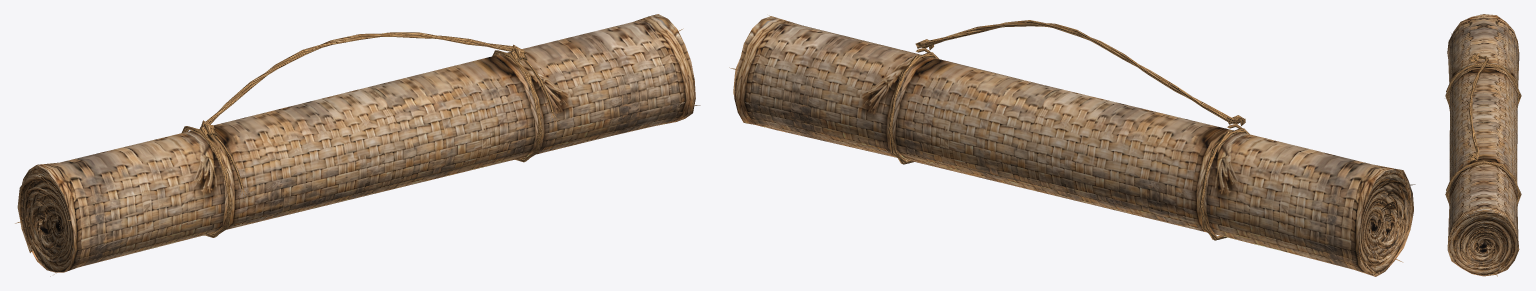
Rendered from Model_StrawSleepingMatRolled.glb.
3 views of the same model, side by side, from view 1: azimuth 30°, elevation 25°; view 2: azimuth 150°, elevation 25°; view 3: azimuth 270°, elevation 25° (orthographic). The views are drawn at different scales.
Parts seen in each view (by area): view 1: Model_StrawSleepingMatRolled; view 2: Model_StrawSleepingMatRolled; view 3: Model_StrawSleepingMatRolled.
Boxes of the visible parts, box(x1,y1,x2,y2) form: Model_StrawSleepingMatRolled: box(15, 14, 700, 276); Model_StrawSleepingMatRolled: box(729, 15, 1415, 276); Model_StrawSleepingMatRolled: box(1445, 14, 1521, 276).
Size of the model in its own units: 0.9224 by 0.2289 by 0.1493.
Materials: 1 (1 with a texture image).
